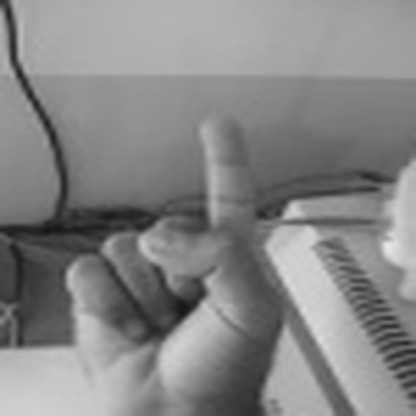d: (59, 103, 288, 415)
